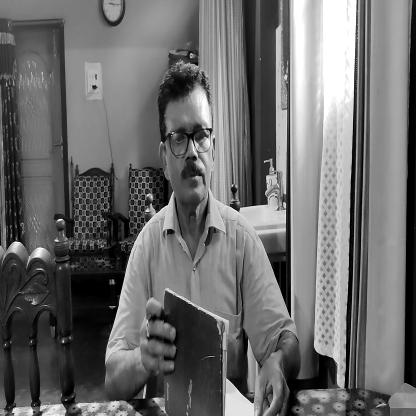Normal: (157, 57, 216, 214)
